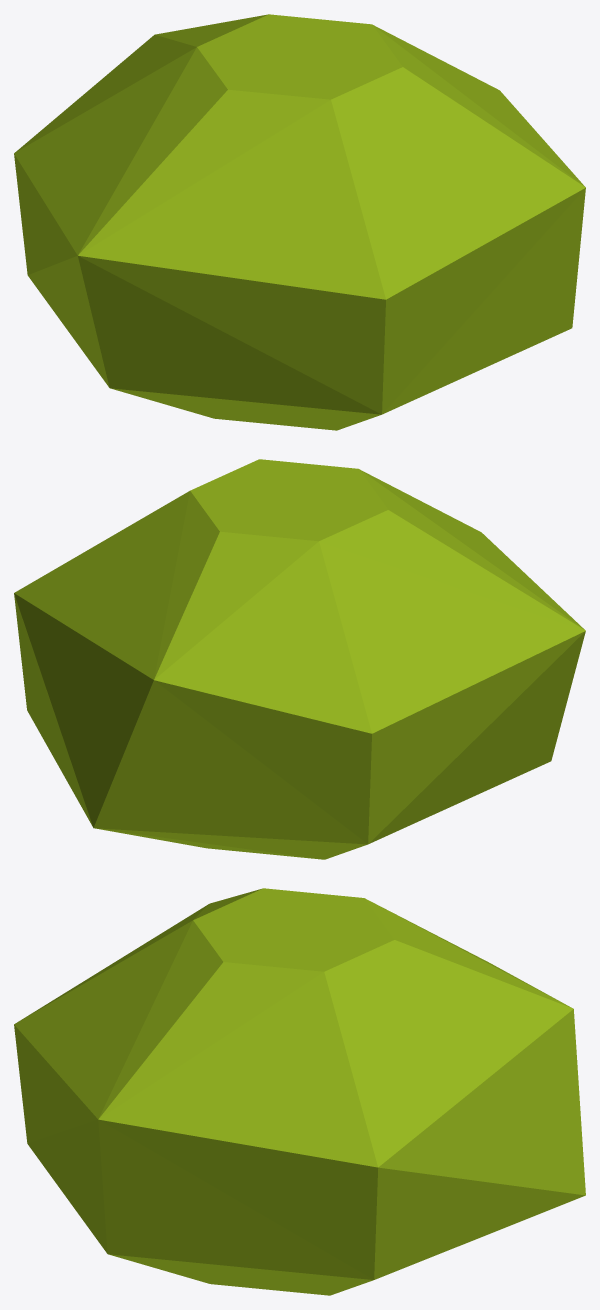
Rendered from Vegetation_Modular_Tree_Foliage_Clump_Large_08.fbx.
The picture shows the model from 3 angles, top to bottom: view 1: azimuth 30°, elevation 25°; view 2: azimuth 150°, elevation 25°; view 3: azimuth 270°, elevation 25°; orthographic projection. The views are drawn at different scales.
Visible parts, largest first — view 1: Vegetation_Modular_Tree_Foliage_Clump_Large_08; view 2: Vegetation_Modular_Tree_Foliage_Clump_Large_08; view 3: Vegetation_Modular_Tree_Foliage_Clump_Large_08.
Boxes of the visible parts, x1,y1,x2,y2 form: Vegetation_Modular_Tree_Foliage_Clump_Large_08: (14, 14, 585, 430); Vegetation_Modular_Tree_Foliage_Clump_Large_08: (14, 459, 585, 859); Vegetation_Modular_Tree_Foliage_Clump_Large_08: (14, 888, 585, 1295).
Size of the model in its own units: 2413 by 1464 by 2403.
